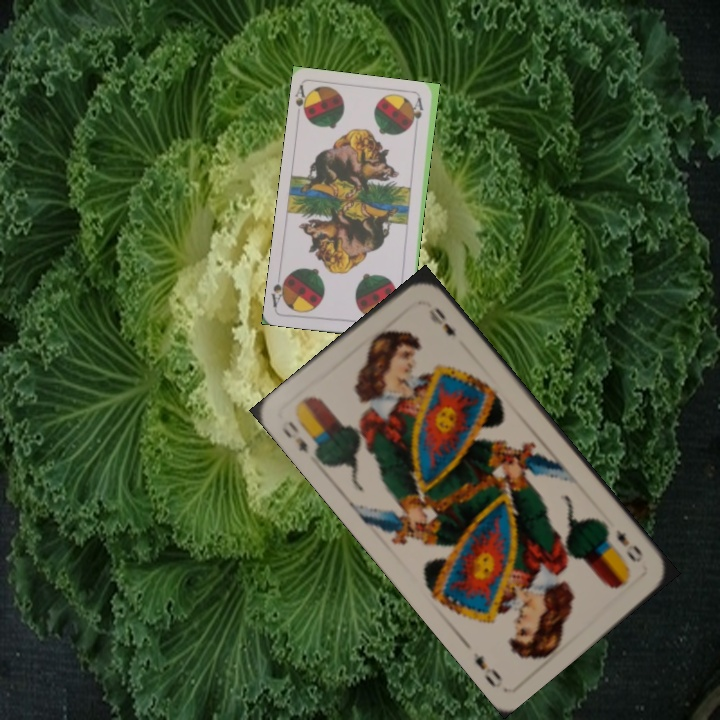EO: (611, 525, 646, 565), (277, 417, 312, 457)
SA: (291, 81, 313, 122)
